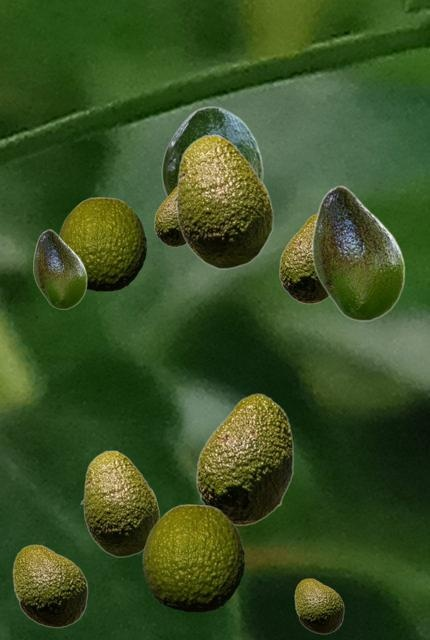avocado: (172, 134, 273, 268), (196, 393, 292, 525), (312, 185, 404, 320), (142, 504, 243, 611), (161, 106, 262, 196), (80, 450, 159, 556), (59, 197, 145, 290), (12, 544, 87, 627), (279, 213, 328, 303), (33, 229, 86, 308), (294, 578, 343, 633), (154, 186, 185, 246)
